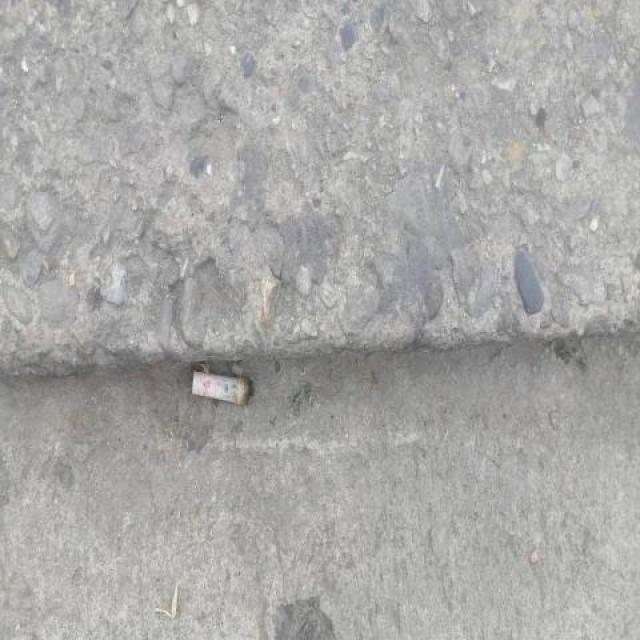non-organic waste: (189, 365, 259, 410)
